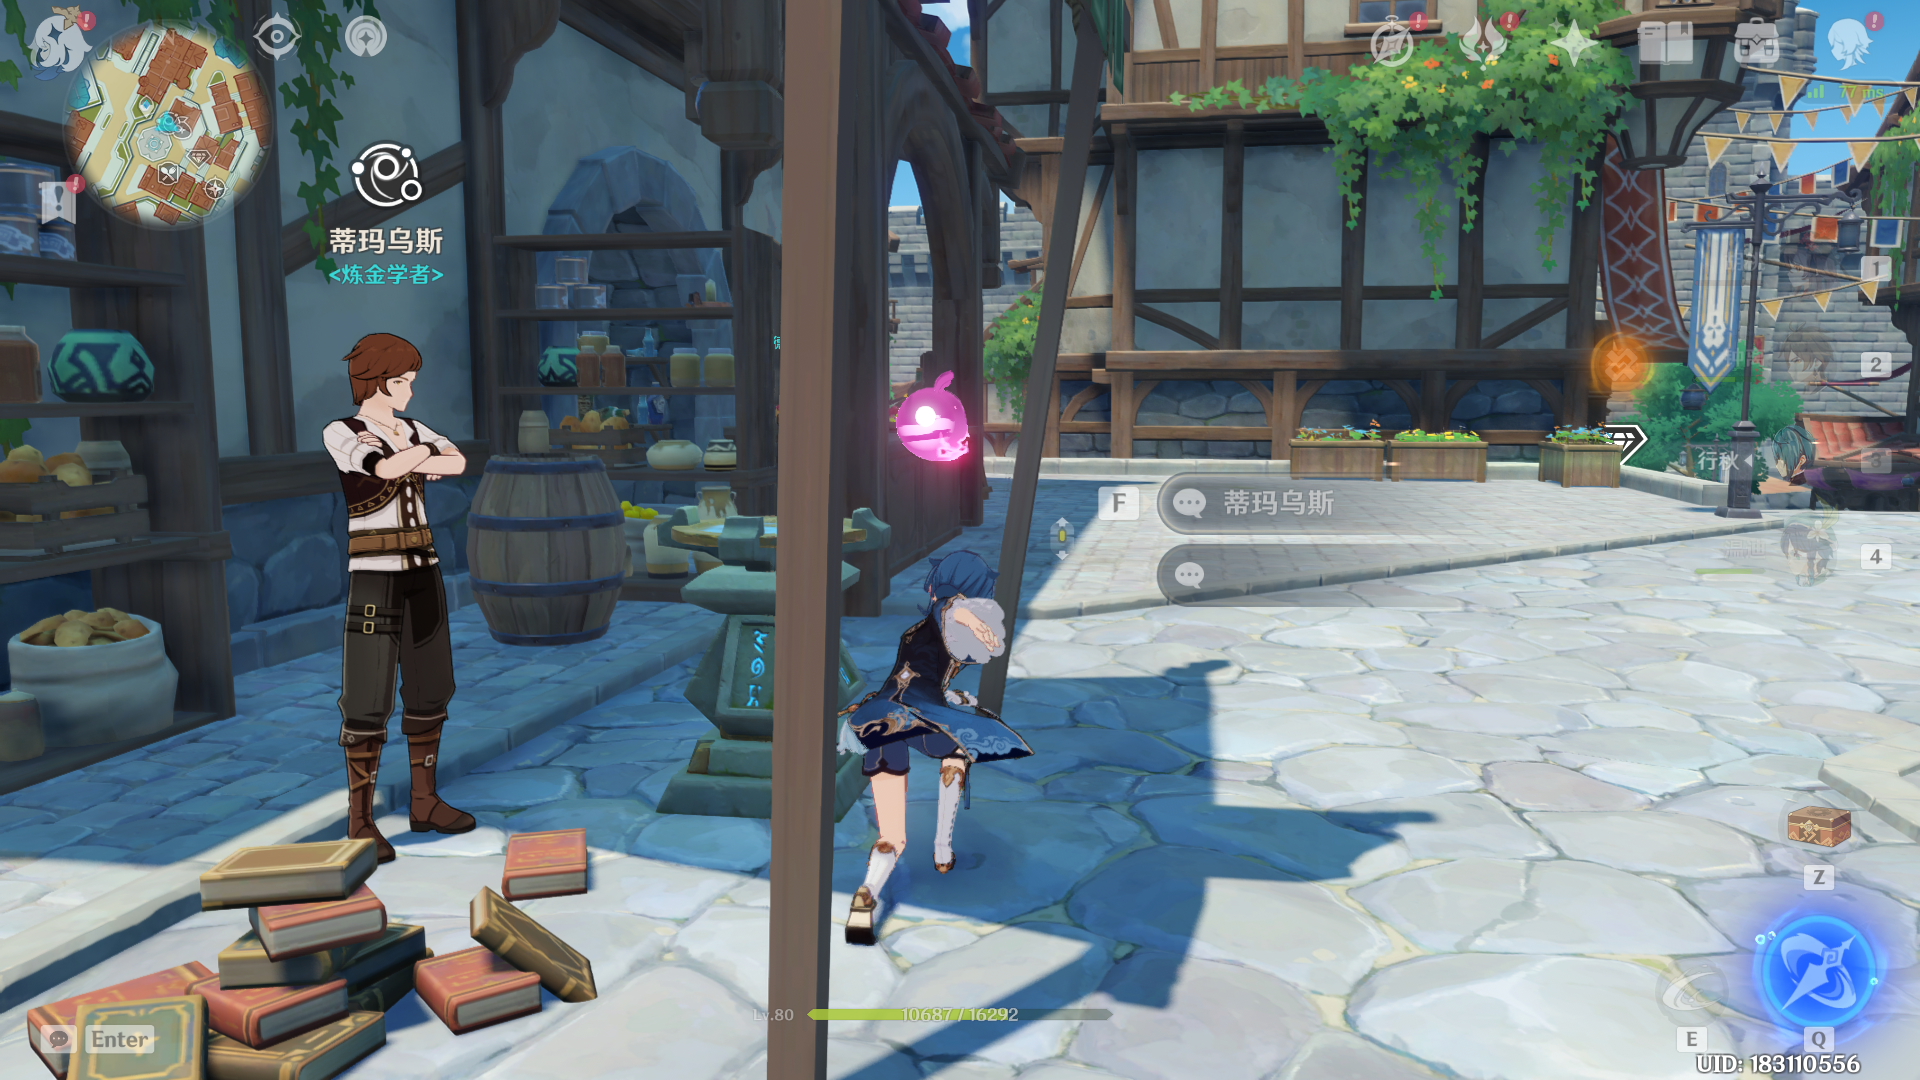character: (804, 496, 1069, 1005)
